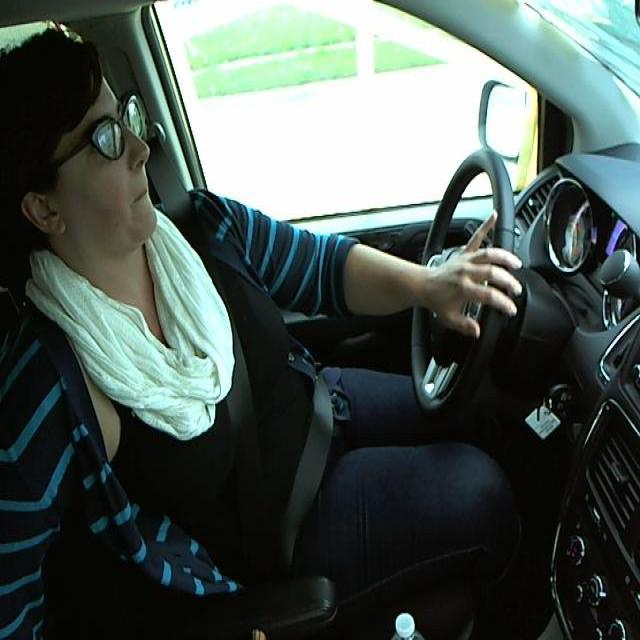seatbelt: (186, 320, 328, 569)
